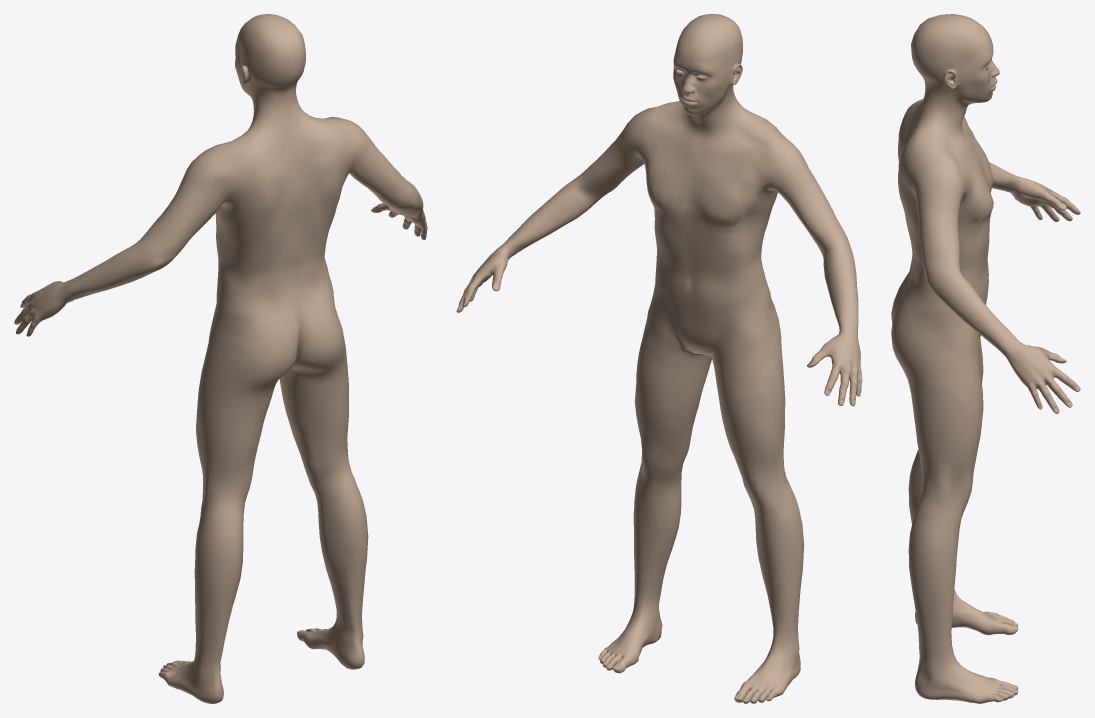
Rendered from male_body.fbx.
3 renders of one model, left to right at view 1: azimuth 30°, elevation 25°; view 2: azimuth 150°, elevation 25°; view 3: azimuth 270°, elevation 25°, orthographic.
Parts seen in each view (by area): view 1: male_body; view 2: male_body; view 3: male_body.
Boxes of the visible parts, x1,y1,x2,y2 form: male_body: (14, 14, 427, 703); male_body: (456, 14, 862, 703); male_body: (891, 14, 1080, 703).
Bounding box in the file's own units: 112 × 175 × 46.39.
